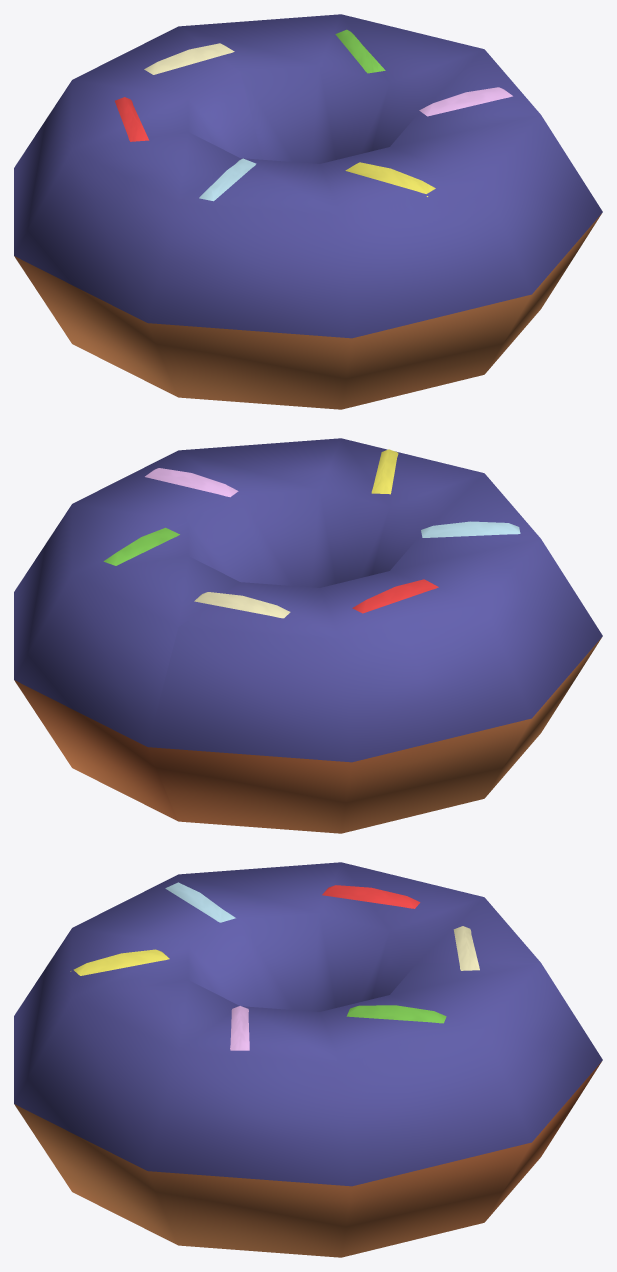
File: Doughnut_B_4.FBX
3 views of the same model, one above another, from view 1: azimuth 30°, elevation 25°; view 2: azimuth 150°, elevation 25°; view 3: azimuth 270°, elevation 25° (orthographic).
Parts seen in each view (by area): view 1: Doughnut; view 2: Doughnut; view 3: Doughnut.
Boxes of the visible parts, left/top/right/bottom form: Doughnut: left=14, top=14, right=602, bottom=409; Doughnut: left=14, top=438, right=602, bottom=833; Doughnut: left=14, top=862, right=602, bottom=1257.
Size of the model in its own units: 52.77 by 19.96 by 51.97.
